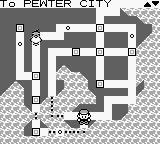main: (76, 109, 91, 125)
mo: (30, 29, 43, 46)
